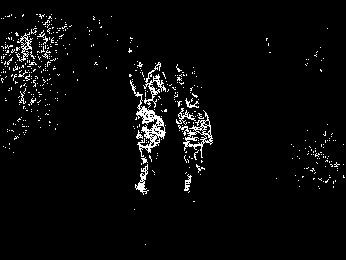person: (176, 96, 216, 195), (133, 99, 166, 195), (144, 60, 169, 112), (128, 60, 146, 109)
